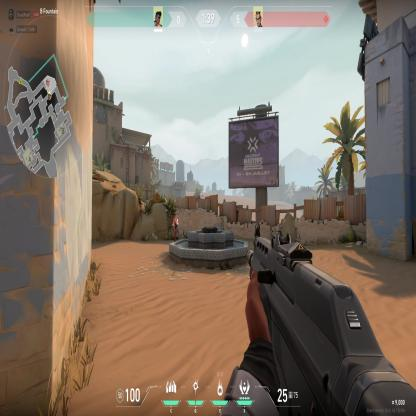enemy: (172, 213, 178, 242)
